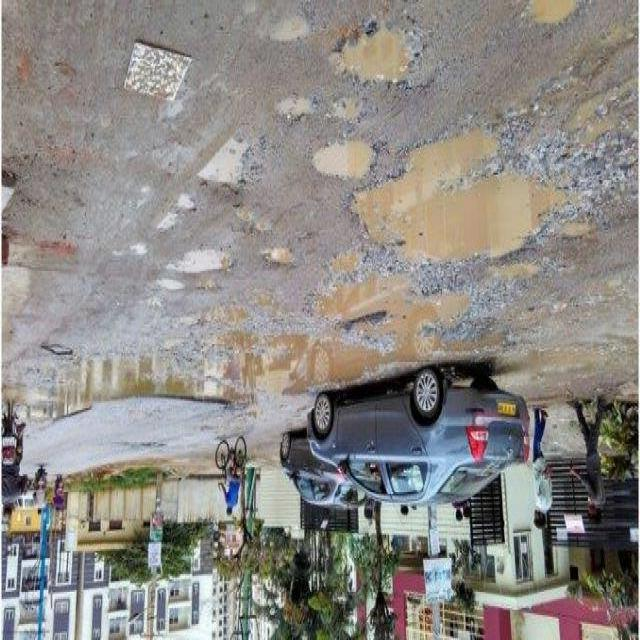lubang: (355, 130, 562, 272), (184, 308, 357, 404), (322, 252, 464, 364), (48, 352, 208, 440), (504, 102, 636, 182), (396, 112, 510, 190), (337, 21, 434, 86), (185, 116, 254, 196), (502, 343, 634, 383), (576, 17, 632, 102), (416, 276, 486, 344), (479, 285, 565, 331), (153, 294, 202, 372), (515, 1, 594, 44), (436, 329, 524, 367), (309, 144, 381, 188), (143, 189, 206, 239), (177, 242, 244, 288), (570, 270, 635, 316), (548, 192, 595, 252), (28, 394, 92, 434), (346, 345, 410, 381), (195, 301, 255, 338), (194, 406, 261, 436), (491, 256, 547, 290), (281, 1, 322, 44), (253, 396, 300, 432), (229, 201, 269, 239), (325, 244, 367, 280), (36, 338, 78, 374), (251, 286, 285, 327), (116, 434, 174, 458), (264, 244, 304, 278), (155, 266, 190, 302), (326, 105, 371, 127), (270, 102, 316, 122), (134, 238, 150, 260)
